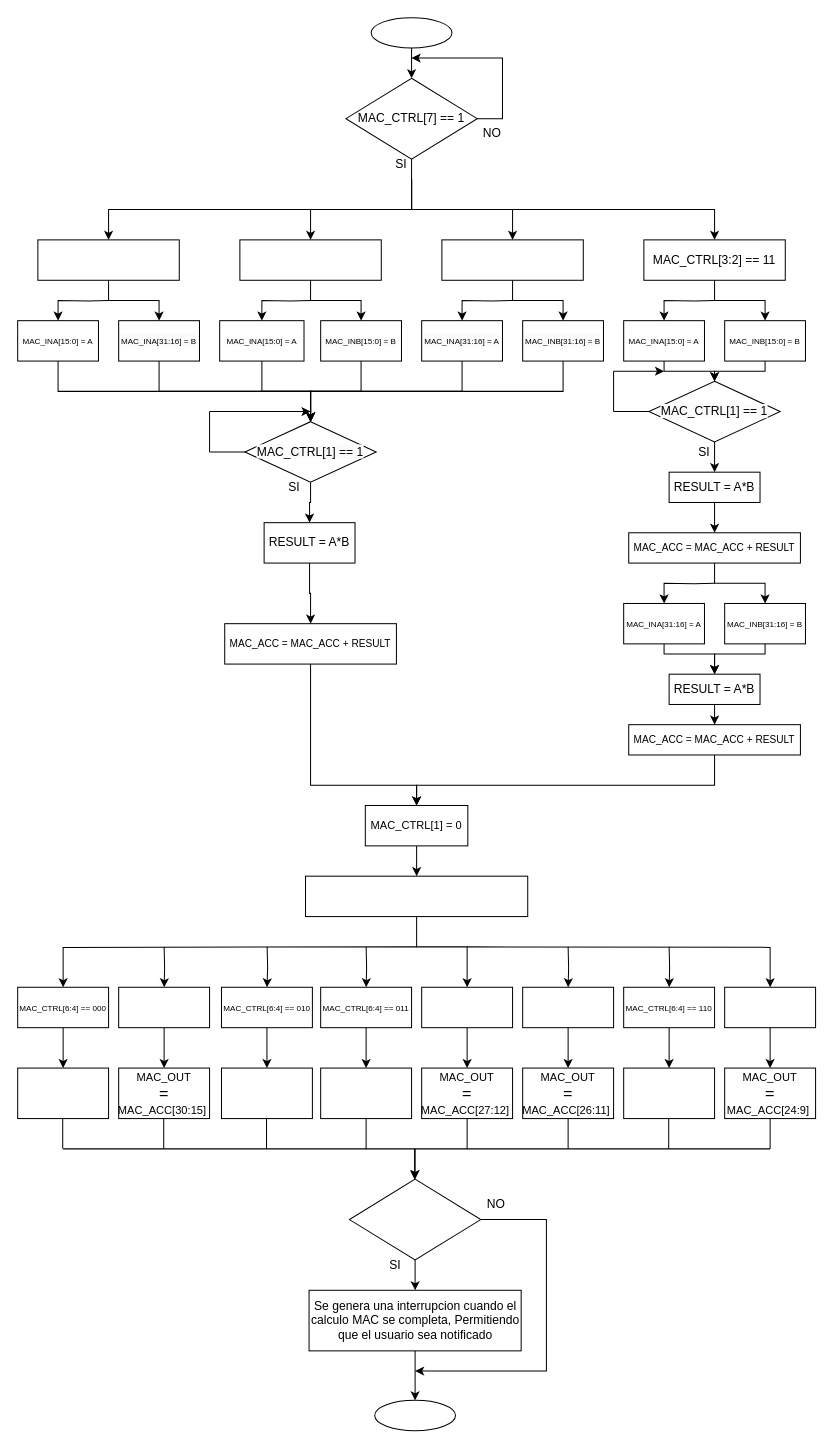
This 833x1448 diagram has some shape labels left out. The shapes that lost their labels are listed below. From the top down, each one's centre as x and y in pixels, then its label:
At (411,32): "INICIO".
At (108,259): "MAC_CTRL[3:2] == 00".
At (310,259): "MAC_CTRL[3:2] == 01".
At (512,259): "MAC_CTRL[3:2] == 10".
At (416,896): "SHIFT Desplaza el MAC_ACC para MAC_OUT".
At (164,1007): "MAC_CTRL[6:4] == 001".
At (467,1007): "MAC_CTRL[6:4] == 100".
At (568,1007): "MAC_CTRL[6:4] == 101".
At (770,1007): "MAC_CTRL[6:4] == 111".
At (63,1093): "MAC_OUT = MAC_ACC[31:16]".
At (266,1093): "MAC_OUT = MAC_ACC[29:14]".
At (366,1093): "MAC_OUT = MAC_ACC[28:13]".
At (669,1093): "MAC_OUT = MAC_ACC[25:10]".
At (414,1219): "MAC_CTRL[0] == 1".
At (415,1415): "FIN".
